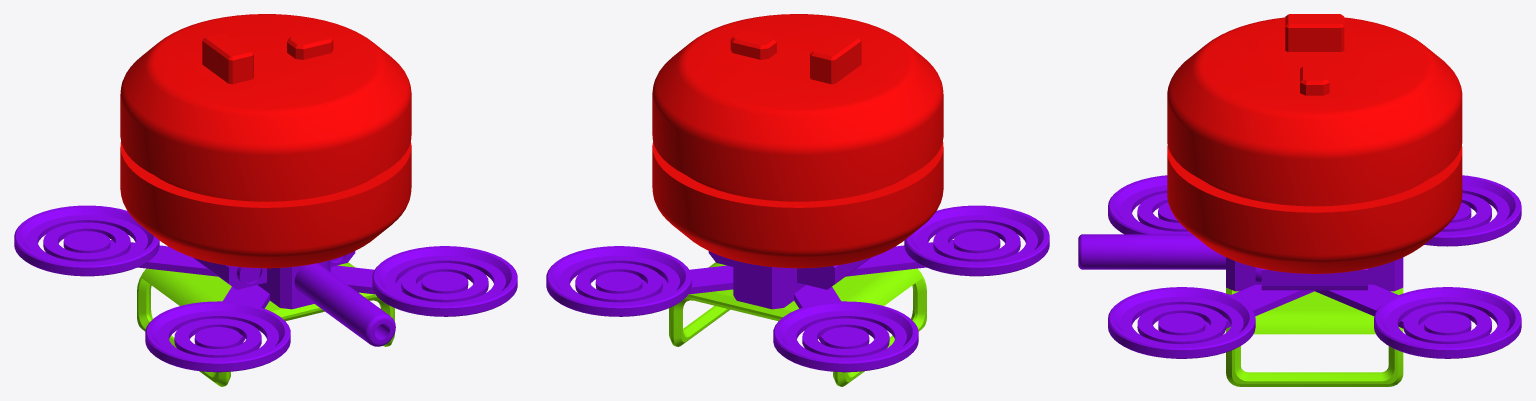
File: DroneV1_UV.fbx
3 renders of one model, left to right at view 1: azimuth 30°, elevation 25°; view 2: azimuth 150°, elevation 25°; view 3: azimuth 270°, elevation 25°, orthographic.
Visible parts, largest first — view 1: Drone_Drone01_v4_RADAR_DOME_Drone01_v4, Drone_Drone01_v4_Body9_Drone01_v4, Drone_Drone01_v4_Body11_Drone01_v4; view 2: Drone_Drone01_v4_RADAR_DOME_Drone01_v4, Drone_Drone01_v4_Body9_Drone01_v4, Drone_Drone01_v4_Body11_Drone01_v4; view 3: Drone_Drone01_v4_RADAR_DOME_Drone01_v4, Drone_Drone01_v4_Body9_Drone01_v4, Drone_Drone01_v4_Body11_Drone01_v4.
Boxes of the visible parts, left/top/right/bottom form: Drone_Drone01_v4_RADAR_DOME_Drone01_v4: left=120, top=14, right=411, bottom=268; Drone_Drone01_v4_Body9_Drone01_v4: left=14, top=205, right=517, bottom=372; Drone_Drone01_v4_Body11_Drone01_v4: left=137, top=262, right=394, bottom=386; Drone_Drone01_v4_RADAR_DOME_Drone01_v4: left=652, top=14, right=943, bottom=268; Drone_Drone01_v4_Body9_Drone01_v4: left=546, top=205, right=1049, bottom=372; Drone_Drone01_v4_Body11_Drone01_v4: left=669, top=262, right=926, bottom=386; Drone_Drone01_v4_RADAR_DOME_Drone01_v4: left=1167, top=14, right=1462, bottom=273; Drone_Drone01_v4_Body9_Drone01_v4: left=1078, top=175, right=1521, bottom=358; Drone_Drone01_v4_Body11_Drone01_v4: left=1226, top=287, right=1403, bottom=386.
Size of the model in its own units: 140 by 115 by 150.
